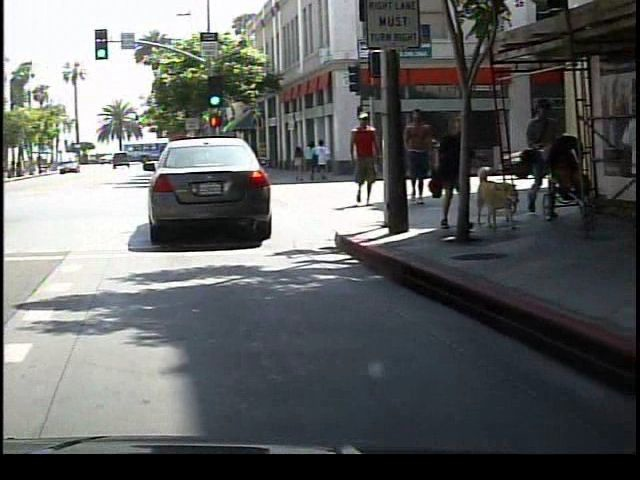person: (343, 109, 384, 212), (402, 104, 439, 210)
